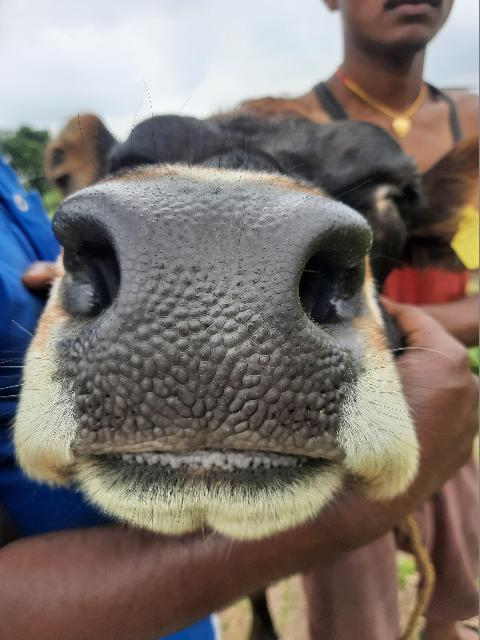Muzzle: (54, 184, 368, 466)
